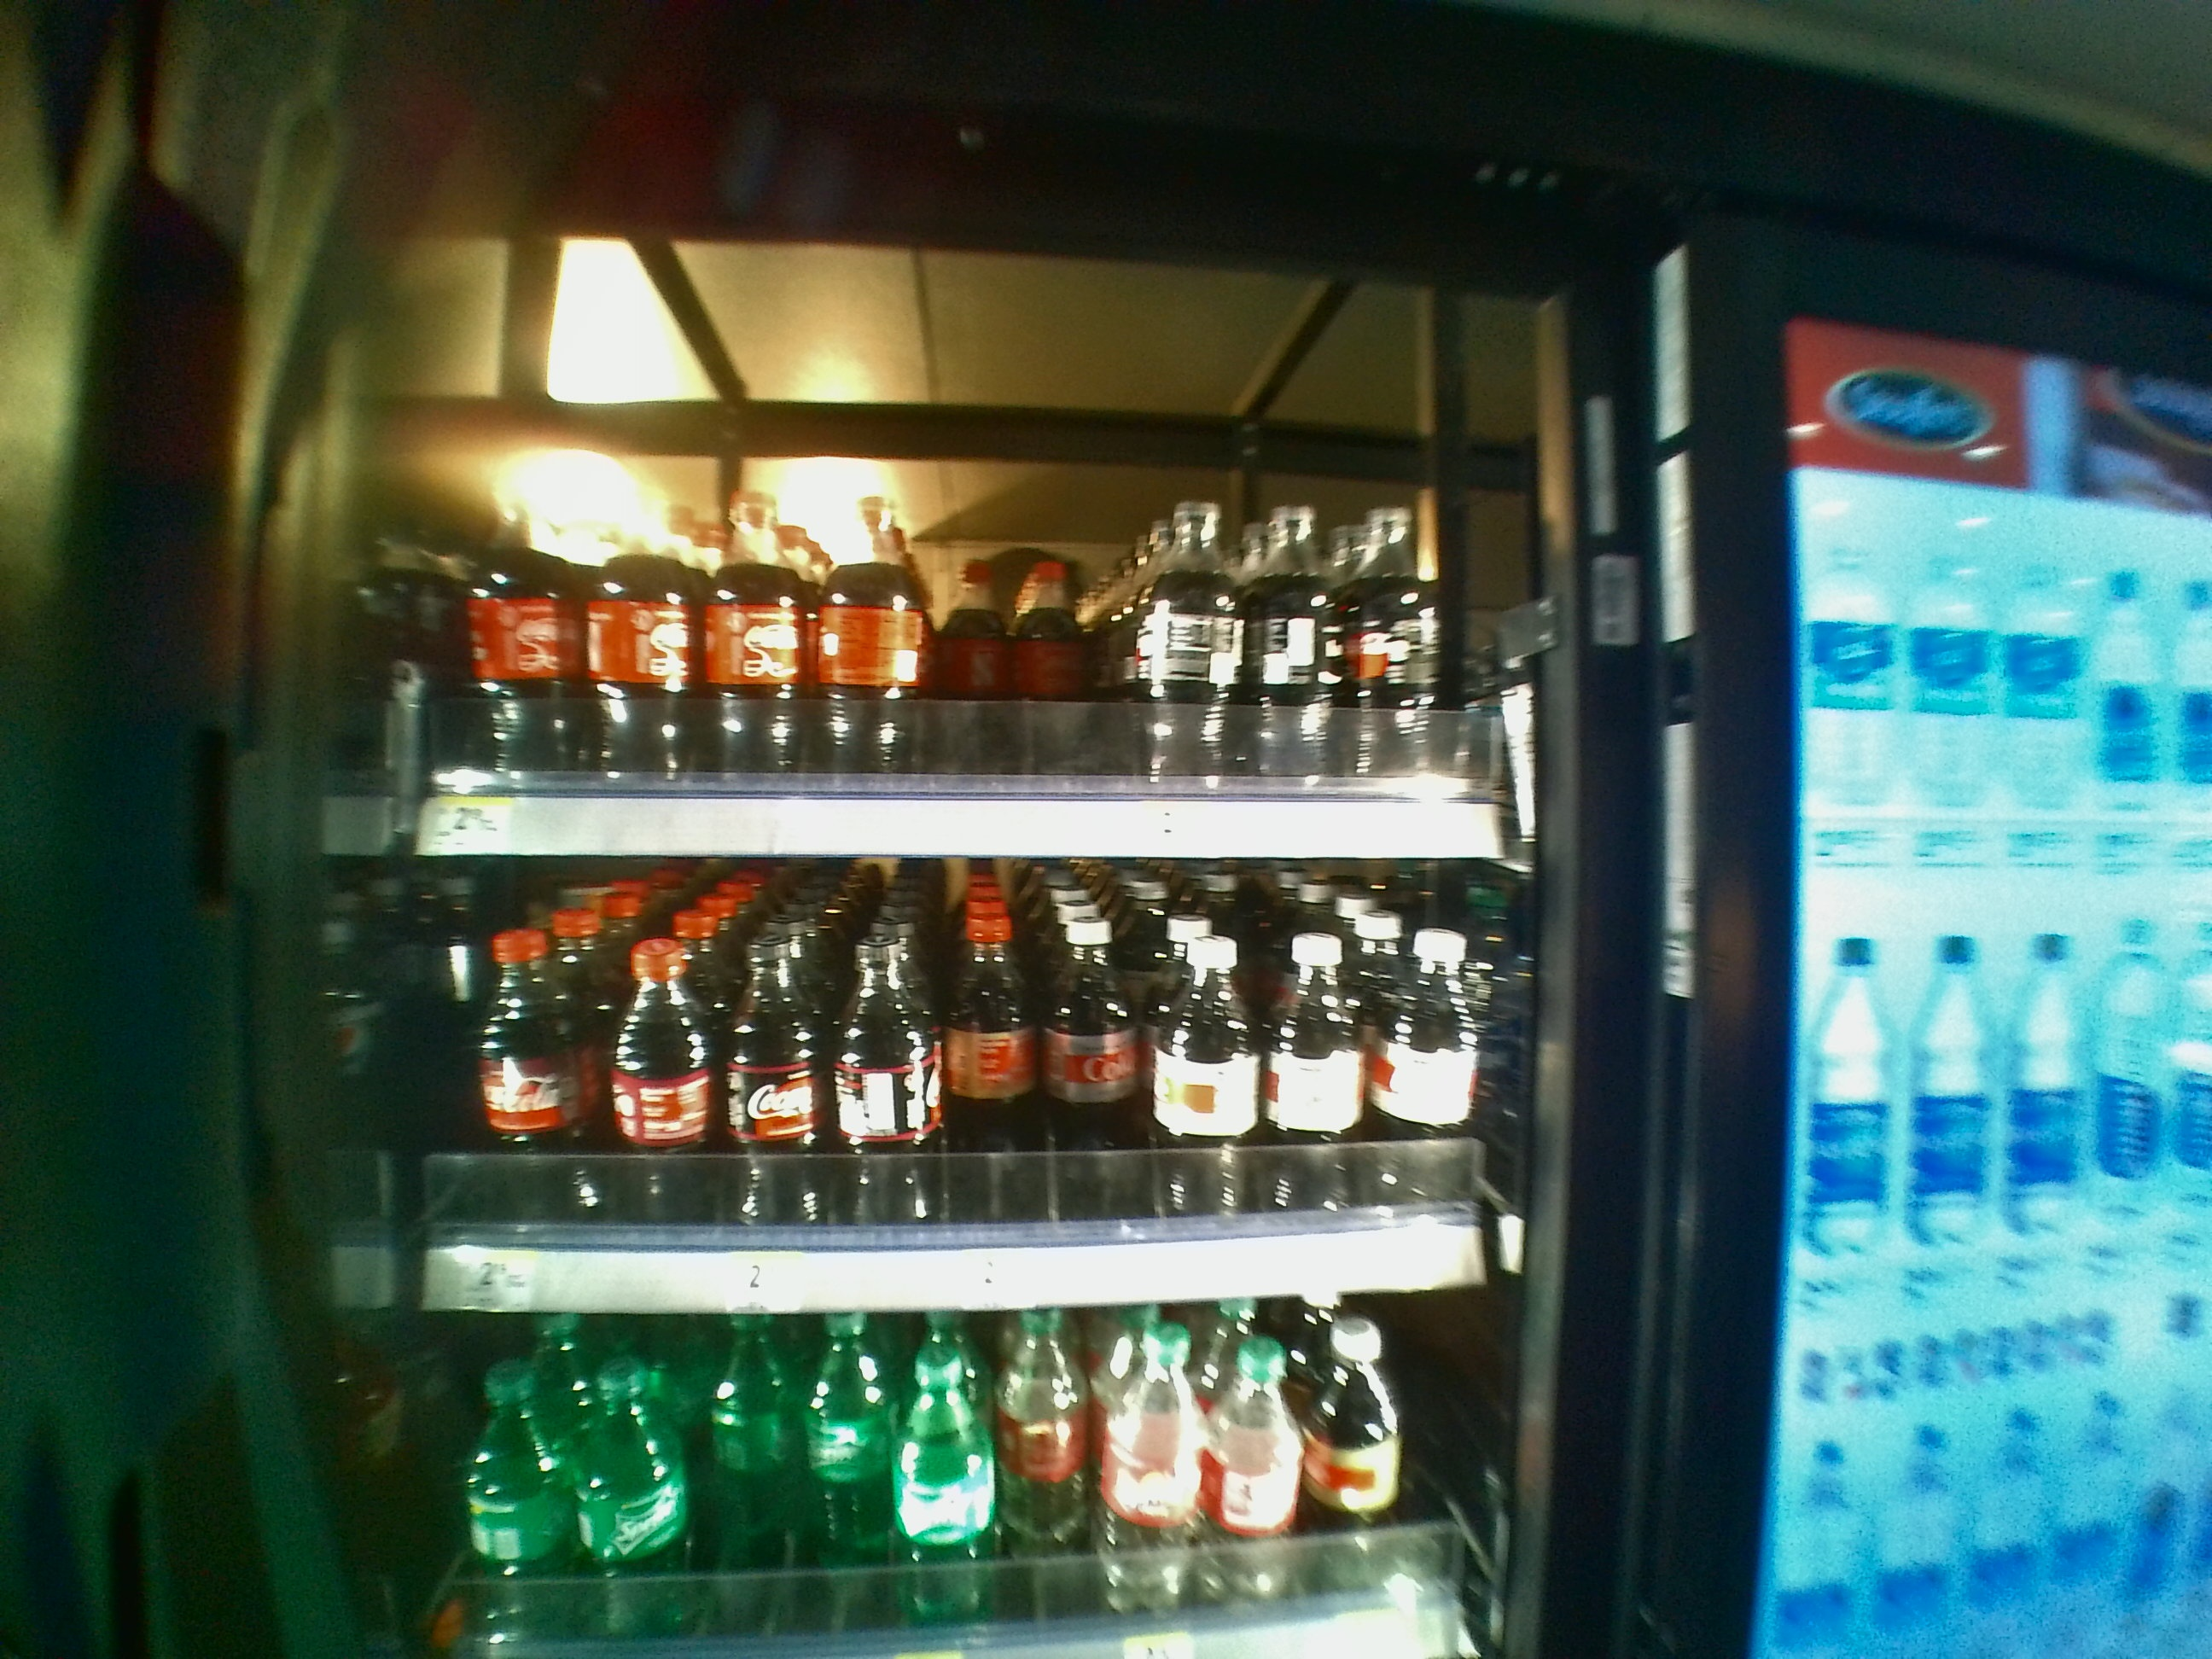shelf: (415, 300, 1521, 859), (416, 873, 1521, 1310)
